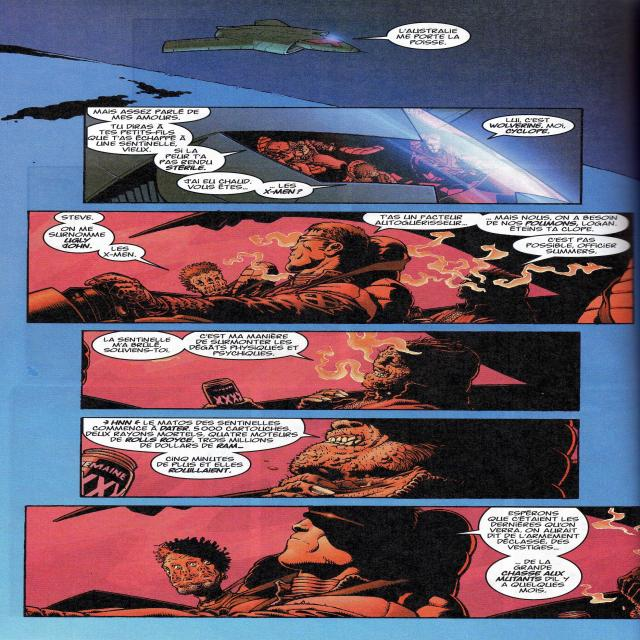comic_panel: (23, 504, 640, 619), (28, 211, 636, 325), (85, 105, 583, 204), (79, 416, 580, 499), (80, 330, 581, 412)
